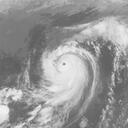cyclone: (42, 45, 97, 97)
